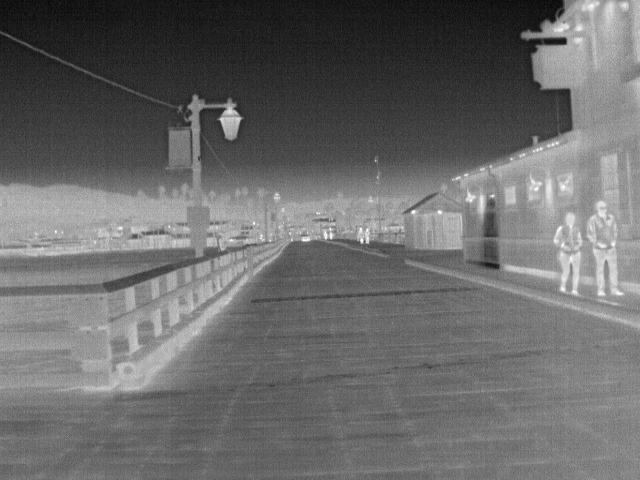car: (301, 232, 314, 244)
person: (585, 200, 625, 296), (552, 210, 583, 296), (363, 227, 372, 244), (357, 227, 366, 244)
